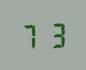seven: (19, 21, 42, 50)
three: (43, 20, 66, 48)
